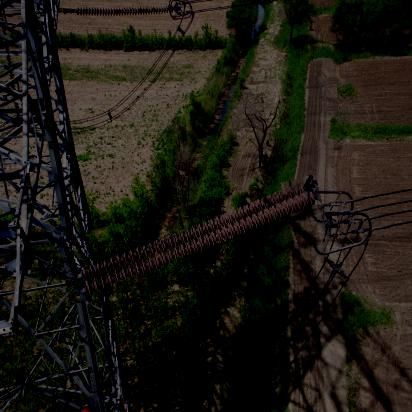insulator: (57, 191, 330, 291)
